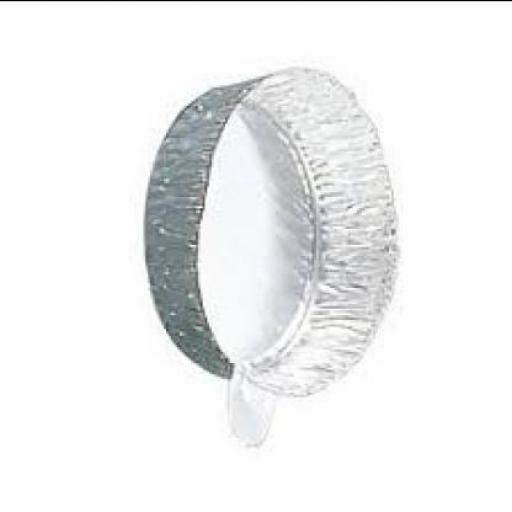metal: (146, 64, 403, 394)
